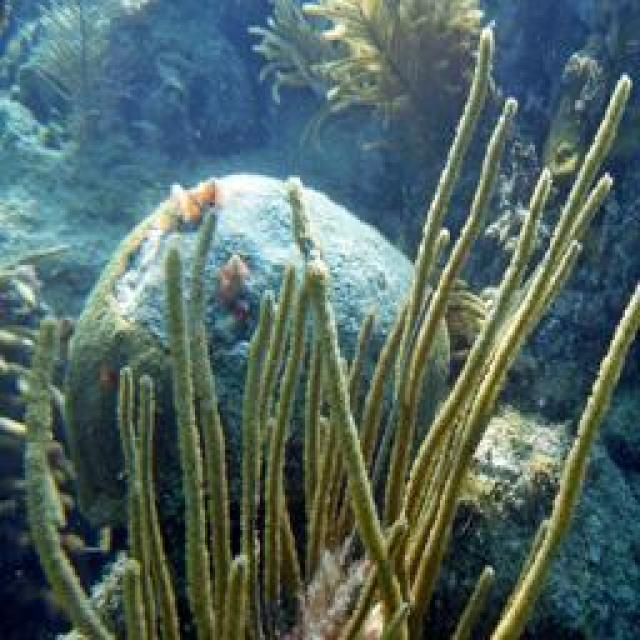aquatic plants: (246, 2, 482, 170), (35, 0, 131, 141)
reefs: (162, 27, 634, 637), (68, 173, 302, 533)
